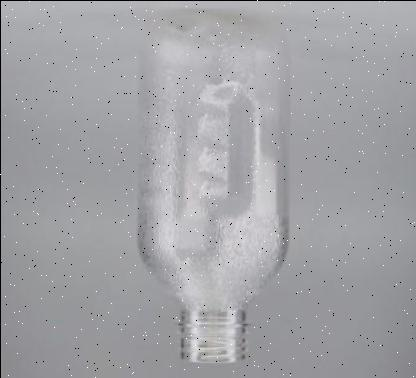Plastic Bottle: (137, 12, 288, 362)
